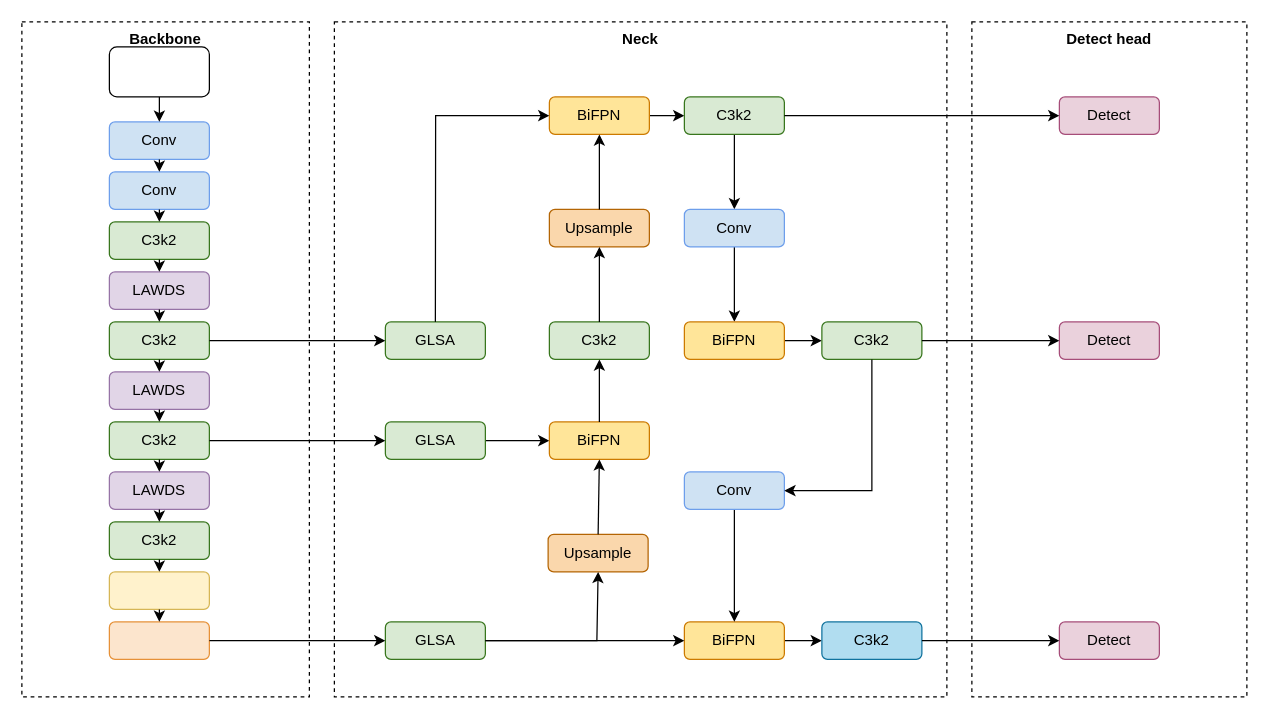
Some shapes in this 1269 by 719 pixel diagram are drawn without their labels. The shapes that lost their labels are listed below. From the top down, each one's centre as x and y in pixels, then its label:
(x=158, y=71): Input
(x=158, y=590): SPPF
(x=158, y=640): C2PSA
